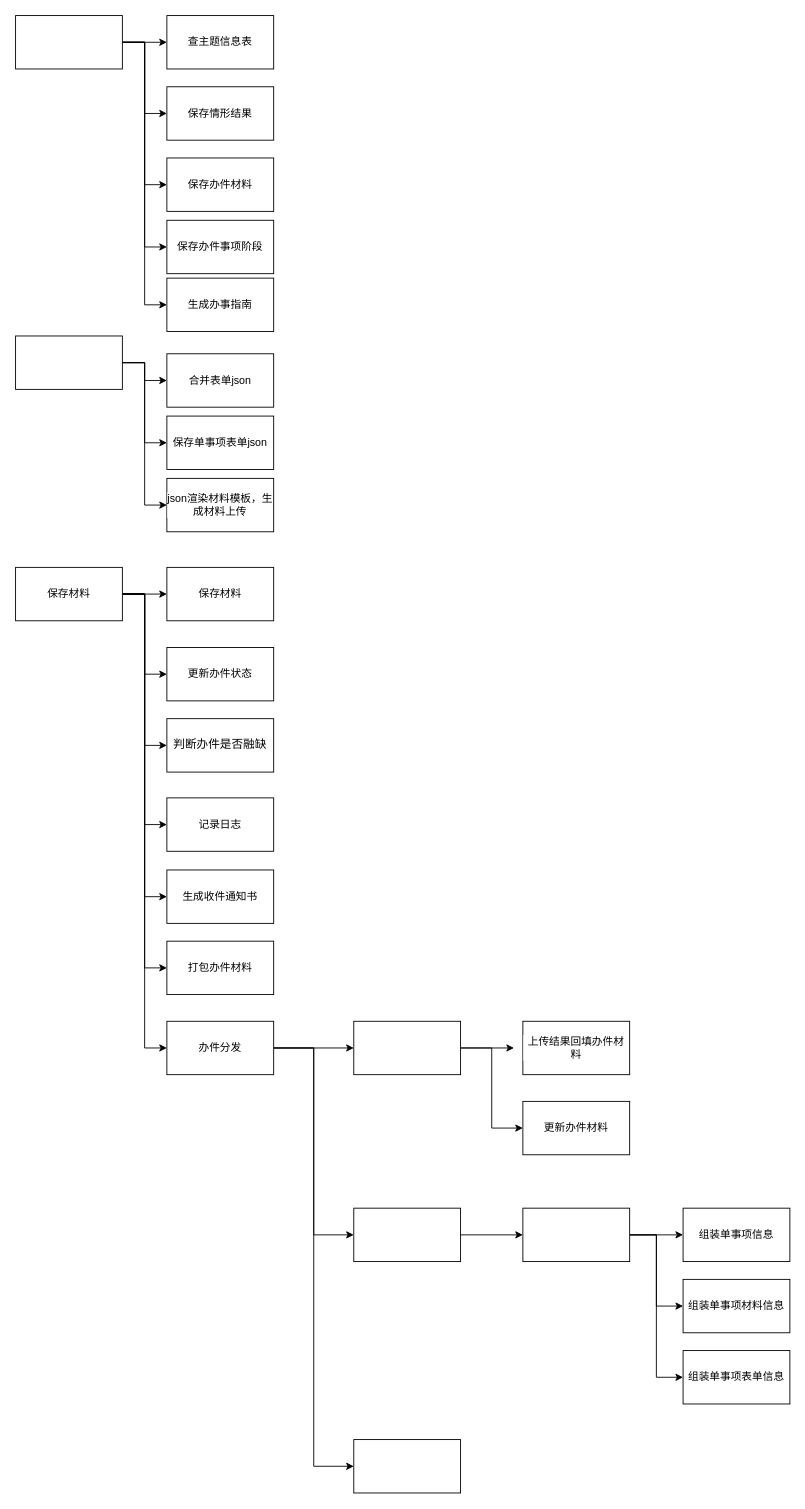
Some shapes in this 805 by 1509 pixel diagram are drawn without their labels. The shapes that lost their labels are listed below. From the top down, each one's centre as x and y in pixels, then its label:
pixel 68 42: 保存套餐情形 save-combo-flow-component
pixel 68 362: 保存表单信息
pixel 407 1047: 材料上传省库
pixel 407 1234: 分发办件
pixel 576 1234: 组装办件信息
pixel 407 1466: 修改办件阶段分发状态
